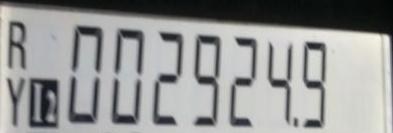0: (293, 118, 300, 128)
1: (65, 24, 103, 127), (111, 24, 147, 125)
3: (150, 29, 184, 130), (230, 35, 260, 127)
5: (267, 42, 294, 126)
:: (190, 34, 221, 125), (299, 40, 328, 128)
